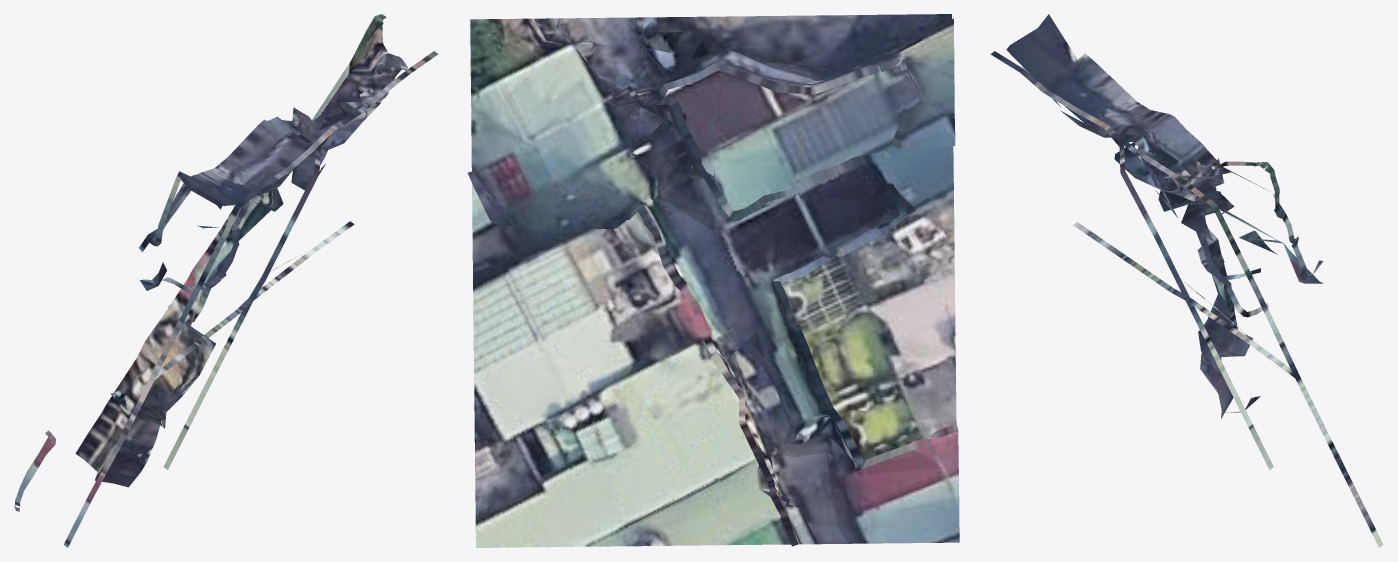
3 renders of one model, left to right at view 1: azimuth 30°, elevation 25°; view 2: azimuth 150°, elevation 25°; view 3: azimuth 270°, elevation 25°, orthographic. The views are drawn at different scales.
Size of the model in its own units: 40.61 by 37.09 by 32.07.
1 material, 1 textured.
